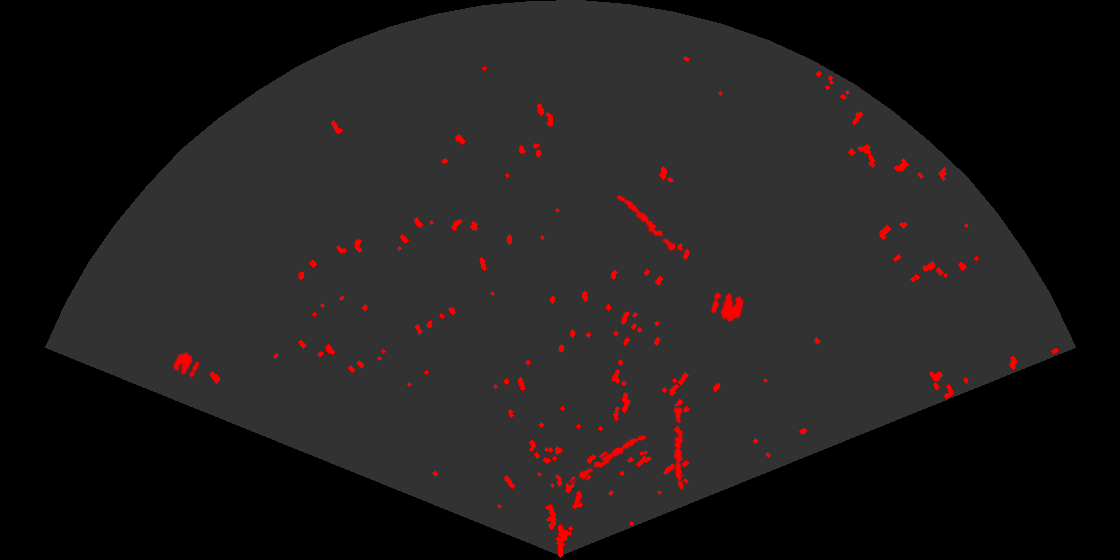ball: (709, 290, 746, 324), (171, 351, 201, 379)
chain: (615, 194, 684, 257), (568, 433, 648, 485), (672, 406, 685, 491)
